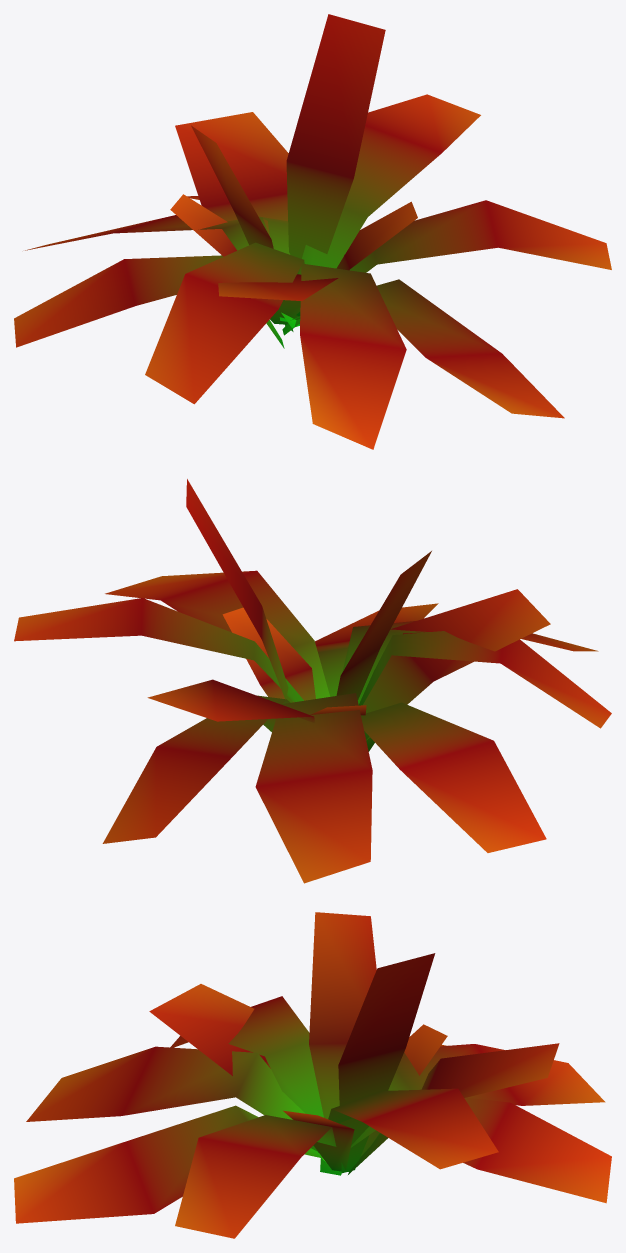
The model's file is Cape Weed_LOD2_Var7_tjmhfcyia.fbx.
3 renders of one model, top to bottom at view 1: azimuth 30°, elevation 25°; view 2: azimuth 150°, elevation 25°; view 3: azimuth 270°, elevation 25°, orthographic. The views are drawn at different scales.
Visible parts, largest first — view 1: _6c84_Var7_LOD2; view 2: _6c84_Var7_LOD2; view 3: _6c84_Var7_LOD2.
Part boxes in pixels (box(x1,y1,x2,y2)): _6c84_Var7_LOD2: box(14, 14, 611, 449); _6c84_Var7_LOD2: box(14, 479, 611, 883); _6c84_Var7_LOD2: box(14, 912, 611, 1238).
Bounding box in the file's own units: 17.62 × 8.97 × 18.11.
